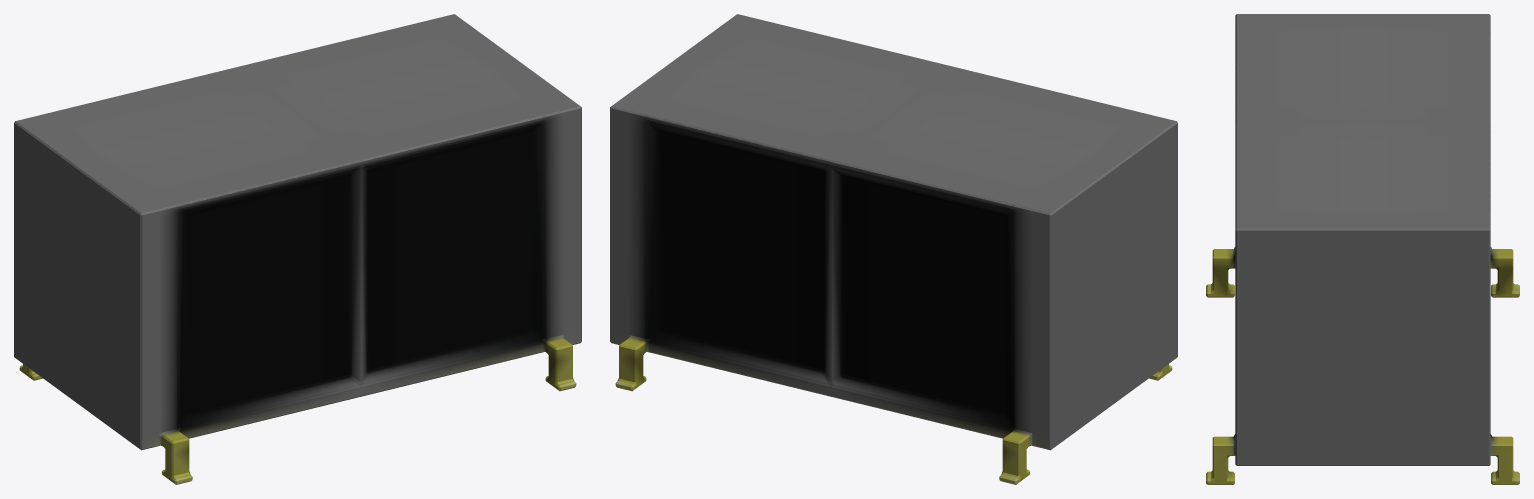
File: BuildingTest.fbx
3 renders of one model, left to right at view 1: azimuth 30°, elevation 25°; view 2: azimuth 150°, elevation 25°; view 3: azimuth 270°, elevation 25°, orthographic.
Visible parts, largest first — view 1: Cube.001; view 2: Cube.001; view 3: Cube.001.
Boxes of the visible parts, left/top/right/bottom form: Cube.001: left=14, top=14, right=581, bottom=484; Cube.001: left=610, top=14, right=1177, bottom=484; Cube.001: left=1206, top=14, right=1519, bottom=484.
Bounding box in the file's own units: 1.6 × 0.92 × 0.9824.
